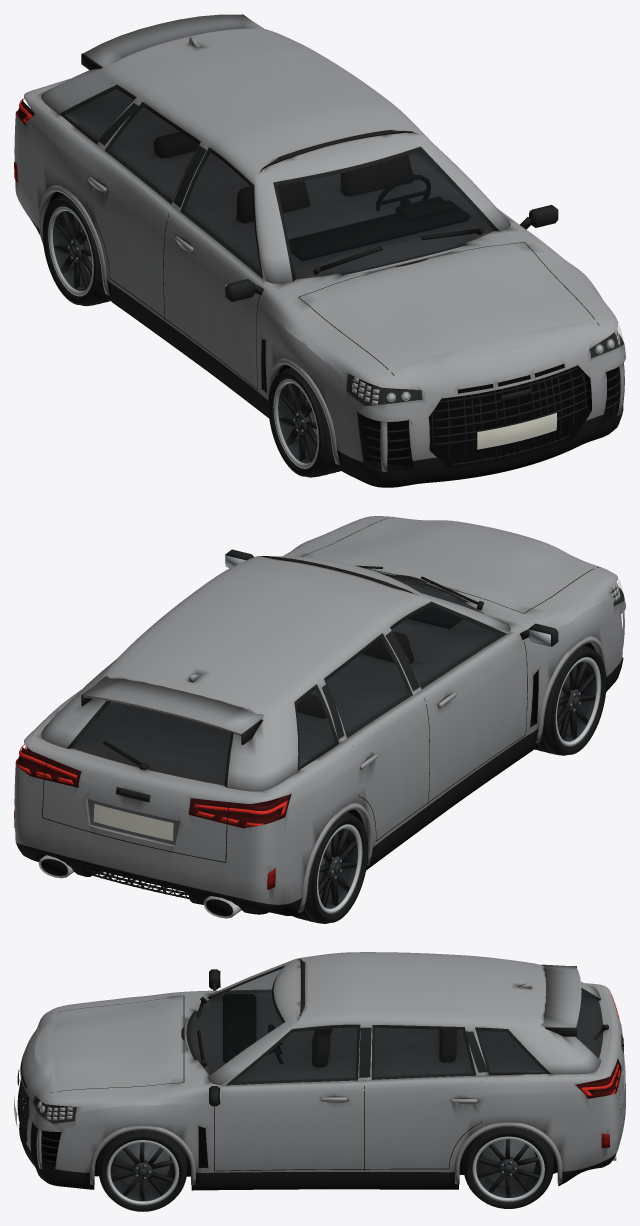
File: audi-rs-3.glb
3 views of the same model, one above another, from view 1: azimuth 30°, elevation 25°; view 2: azimuth 150°, elevation 25°; view 3: azimuth 270°, elevation 25° (orthographic). The views are drawn at different scales.
Parts seen in each view (by area): view 1: Coachwork, Body, Wheel_FR, Wheel_RR, Plate; view 2: Coachwork, Body, Wheel_FR, Wheel_RR, Plate, Taillights; view 3: Coachwork, Body, Wheel_RL, Wheel_FL.
Part boxes in pixels (x1,y1,x2,y2): Coachwork: [14, 78, 625, 487]; Body: [14, 14, 624, 472]; Wheel_FR: [268, 367, 341, 477]; Wheel_RR: [42, 194, 110, 306]; Plate: [477, 412, 557, 449]; Coachwork: [14, 516, 625, 916]; Body: [14, 516, 624, 918]; Wheel_FR: [534, 645, 606, 755]; Wheel_RR: [293, 812, 368, 923]; Plate: [93, 804, 173, 840]; Taillights: [17, 744, 287, 826]; Coachwork: [19, 983, 625, 1190]; Body: [17, 952, 625, 1185]; Wheel_RL: [463, 1127, 553, 1208]; Wheel_FL: [98, 1130, 187, 1211].
Bounding box in the file's own units: 2.16 × 1.44 × 4.4.
